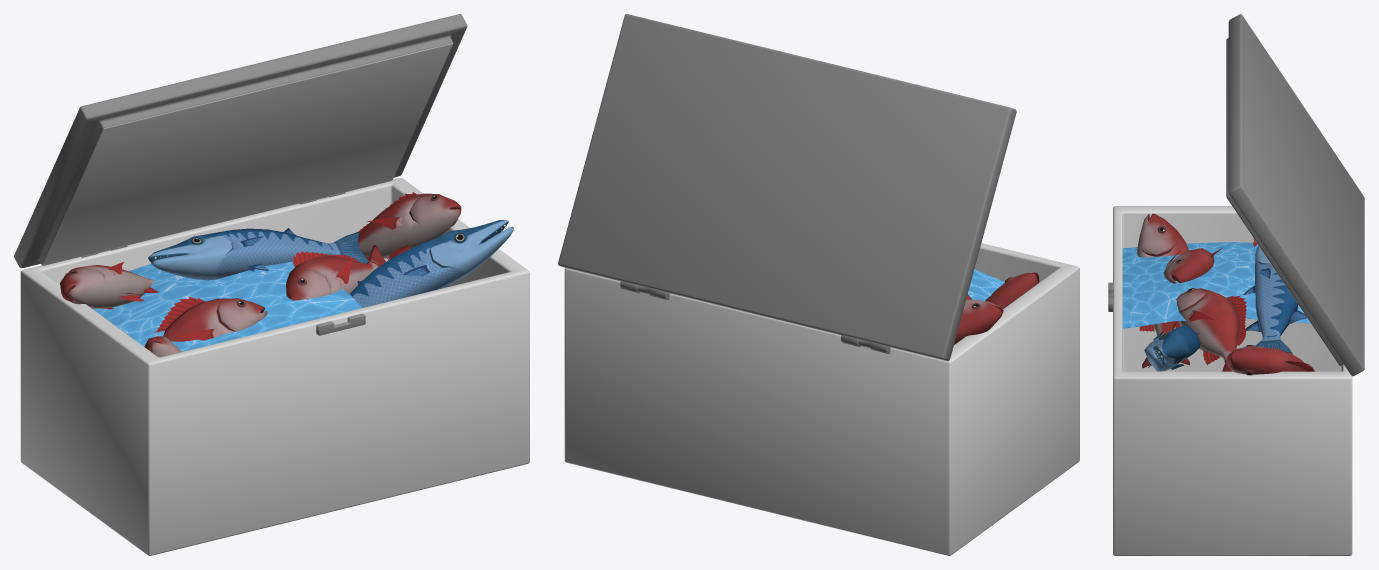
File: Kulkas Ikan.fbx
3 renders of one model, left to right at view 1: azimuth 30°, elevation 25°; view 2: azimuth 150°, elevation 25°; view 3: azimuth 270°, elevation 25°, orthographic. The views are drawn at different scales.
Parts seen in each view (by area): view 1: Cube.011, Cube.012, Plane.001, Plane.015, Plane.007, Plane.006, Plane.005, Plane.004, Plane.008; view 2: Cube.012, Cube.011, Plane.008, Plane.009, Cylinder, Plane.001; view 3: Cube.011, Cube.012, Plane.001, Plane.004, Plane.015, Plane.009, Plane.006, Plane.007, Plane.005.
Part boxes in pixels (x1=…): Cube.011: x1=20, y1=178, x2=529, y2=555; Cube.012: x1=14, y1=14, x2=467, y2=268; Plane.001: x1=92, y1=261, x2=362, y2=351; Plane.015: x1=148, y1=228, x2=368, y2=280; Plane.007: x1=350, y1=220, x2=513, y2=307; Plane.006: x1=358, y1=192, x2=461, y2=260; Plane.005: x1=154, y1=296, x2=267, y2=341; Plane.004: x1=286, y1=245, x2=385, y2=300; Plane.008: x1=60, y1=262, x2=158, y2=309; Cube.012: x1=558, y1=14, x2=1016, y2=361; Cube.011: x1=564, y1=243, x2=1079, y2=555; Plane.008: x1=954, y1=299, x2=1003, y2=344; Plane.009: x1=985, y1=272, x2=1039, y2=309; Cylinder: x1=620, y1=281, x2=890, y2=353; Plane.001: x1=968, y1=269, x2=1004, y2=300; Cube.011: x1=1113, y1=206, x2=1352, y2=555; Cube.012: x1=1226, y1=14, x2=1364, y2=376; Plane.001: x1=1122, y1=242, x2=1310, y2=328; Plane.004: x1=1176, y1=288, x2=1246, y2=371; Plane.015: x1=1243, y1=246, x2=1306, y2=354; Plane.009: x1=1136, y1=213, x2=1189, y2=368; Plane.006: x1=1226, y1=345, x2=1314, y2=375; Plane.007: x1=1144, y1=325, x2=1200, y2=371; Plane.005: x1=1163, y1=247, x2=1222, y2=283.
Size of the model in its own units: 350 by 342 by 214.
Materials: 5 (3 with a texture image).
